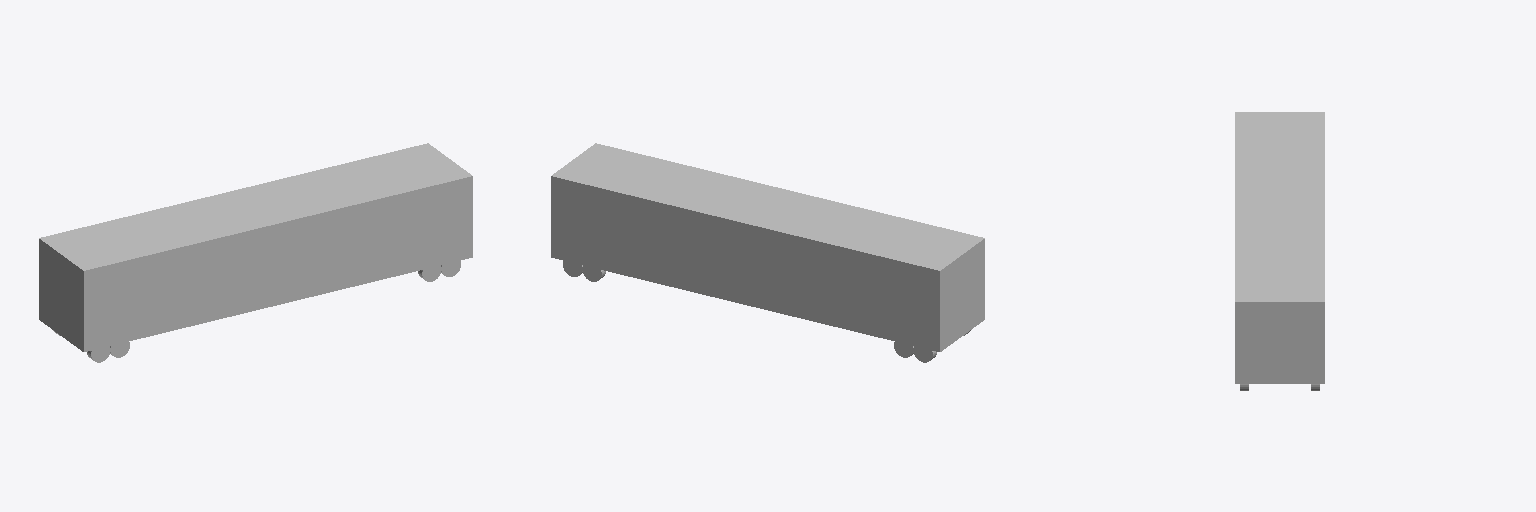
File: cargo.obj
3 views of the same model, side by side, from view 1: azimuth 30°, elevation 25°; view 2: azimuth 150°, elevation 25°; view 3: azimuth 270°, elevation 25° (orthographic).
Parts seen in each view (by area): view 1: Cube_Cube.001; view 2: Cube_Cube.001; view 3: Cube_Cube.001.
Boxes of the visible parts, x1,y1,x2,y2 form: Cube_Cube.001: [39, 143, 472, 351]; Cube_Cube.001: [551, 143, 984, 351]; Cube_Cube.001: [1235, 112, 1324, 383].
Bounding box in the file's own units: 10 × 2.4 × 2.